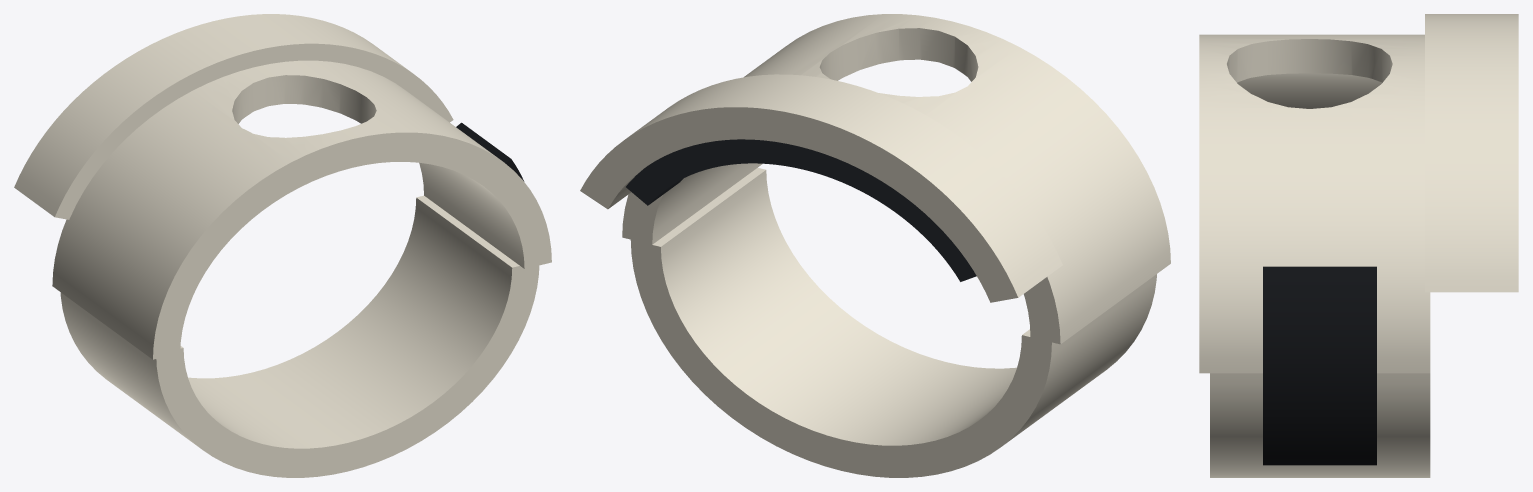
File: collar.glb
The picture shows the model from 3 angles, left to right: view 1: azimuth 30°, elevation 25°; view 2: azimuth 150°, elevation 25°; view 3: azimuth 270°, elevation 25°; orthographic projection. The views are drawn at different scales.
Visible parts, largest first — view 1: collar; view 2: collar; view 3: collar.
Part boxes in pixels (bbox=[...]): collar: bbox=[14, 14, 551, 477]; collar: bbox=[580, 14, 1170, 477]; collar: bbox=[1199, 14, 1518, 477].
Size of the model in its own units: 0.21 by 0.172 by 0.123.
